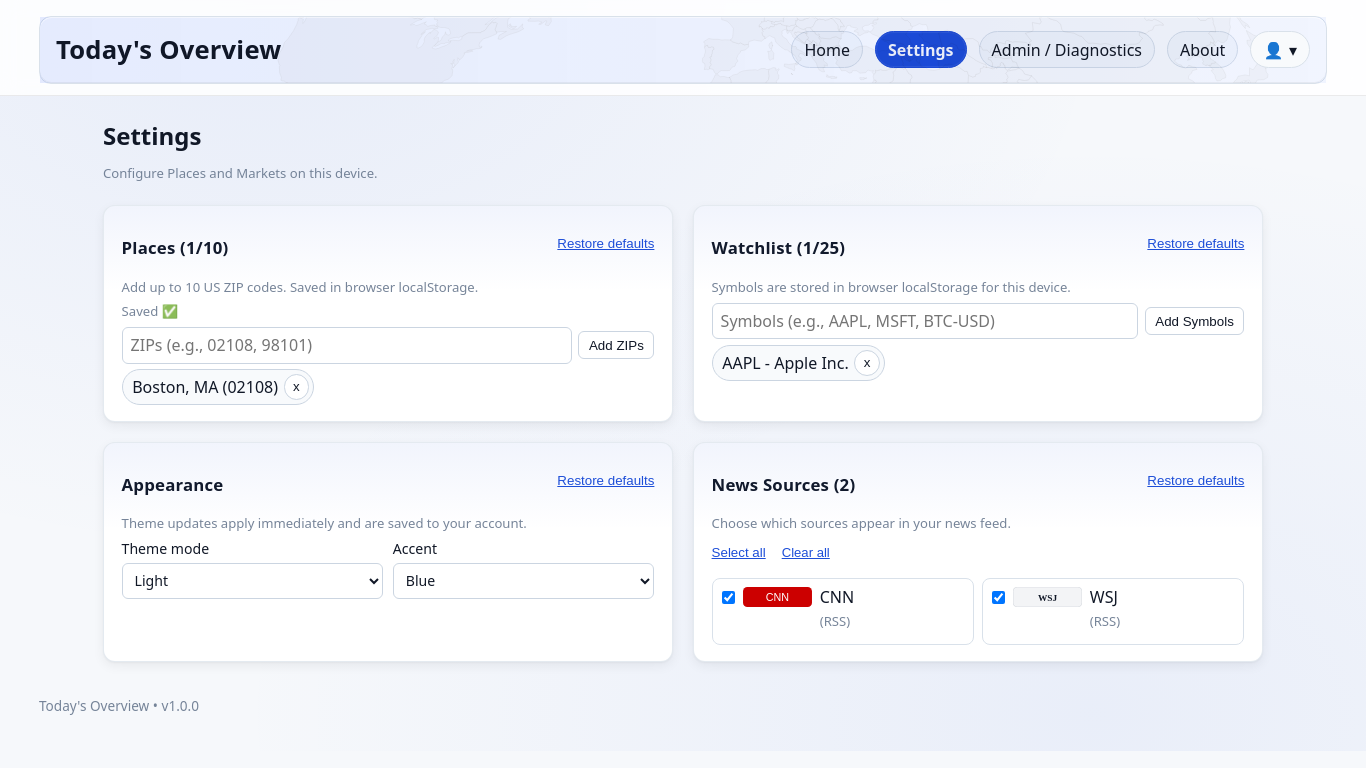
App › adds ZIP and symbol using Enter key in settings
This screenshot has width=1366, height=768.
Step 1. Type "60601, 98101" into the field with placeholder "ZIPs (e.g., 02108, 98101)" → (347, 345), box [122,327,572,364]
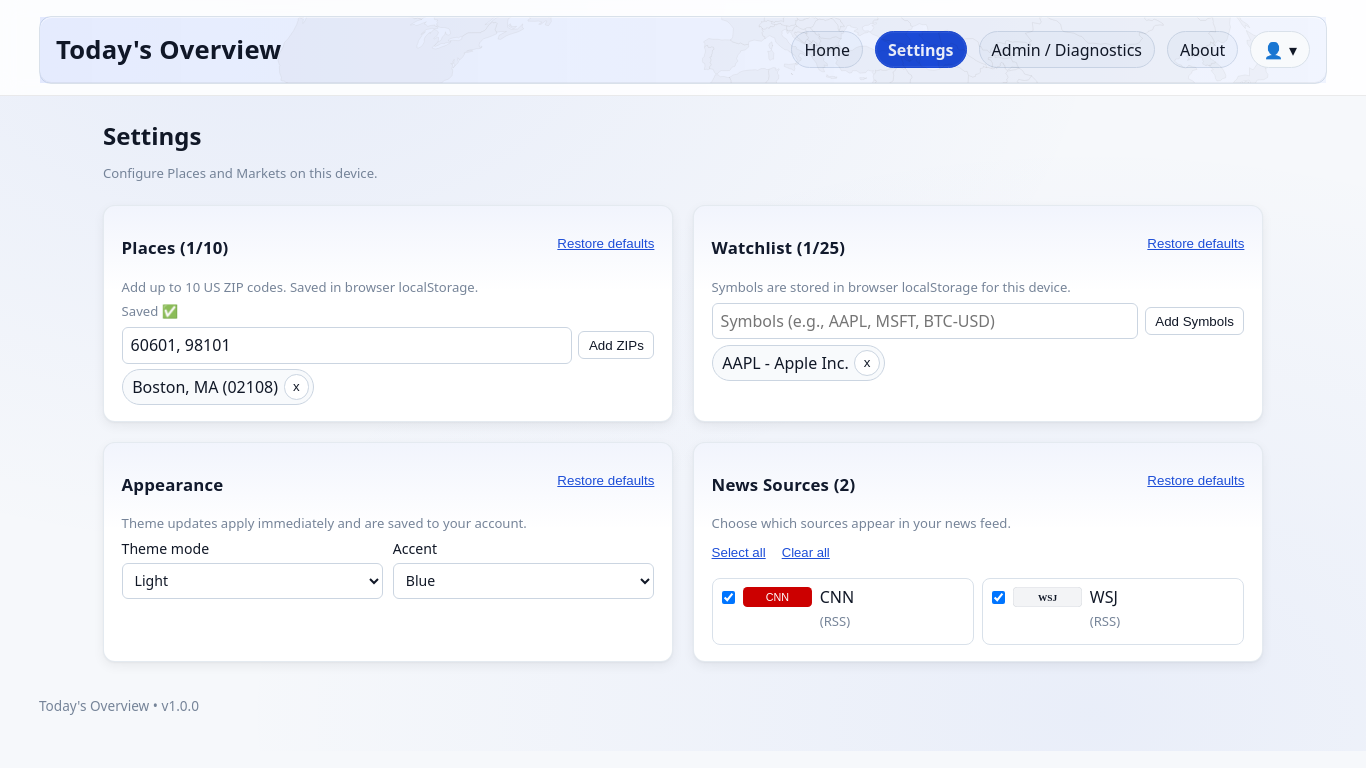
Step 2. Press Enter in the field with placeholder "ZIPs (e.g., 02108, 98101)", box [122,327,572,364]
Step 3. Submit the form with placeholder "ZIPs (e.g., 02108, 98101)", box [122,327,654,364]
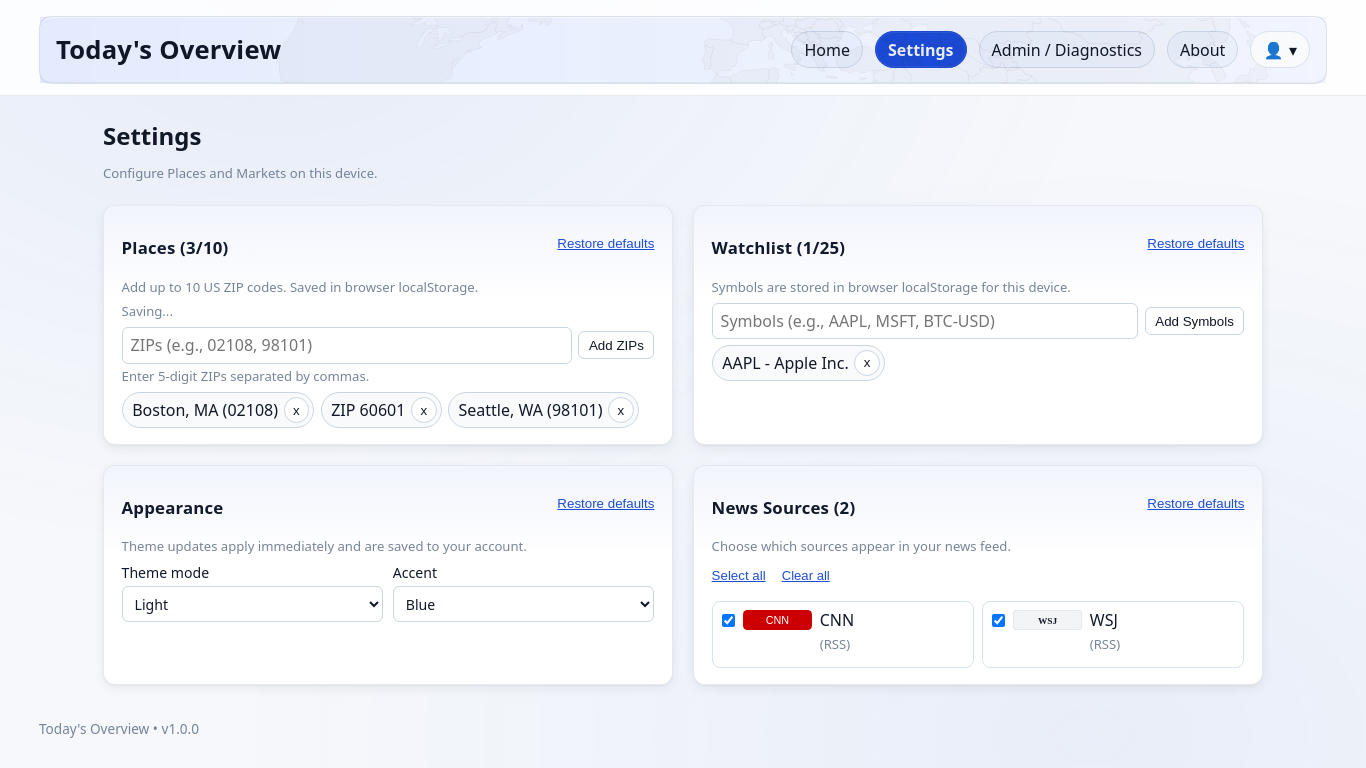
Step 4. Type "tsla, msft" into the field with placeholder "Symbols (e.g., AAPL, MSFT, BTC-USD)" → (925, 321), box [712,303,1138,339]
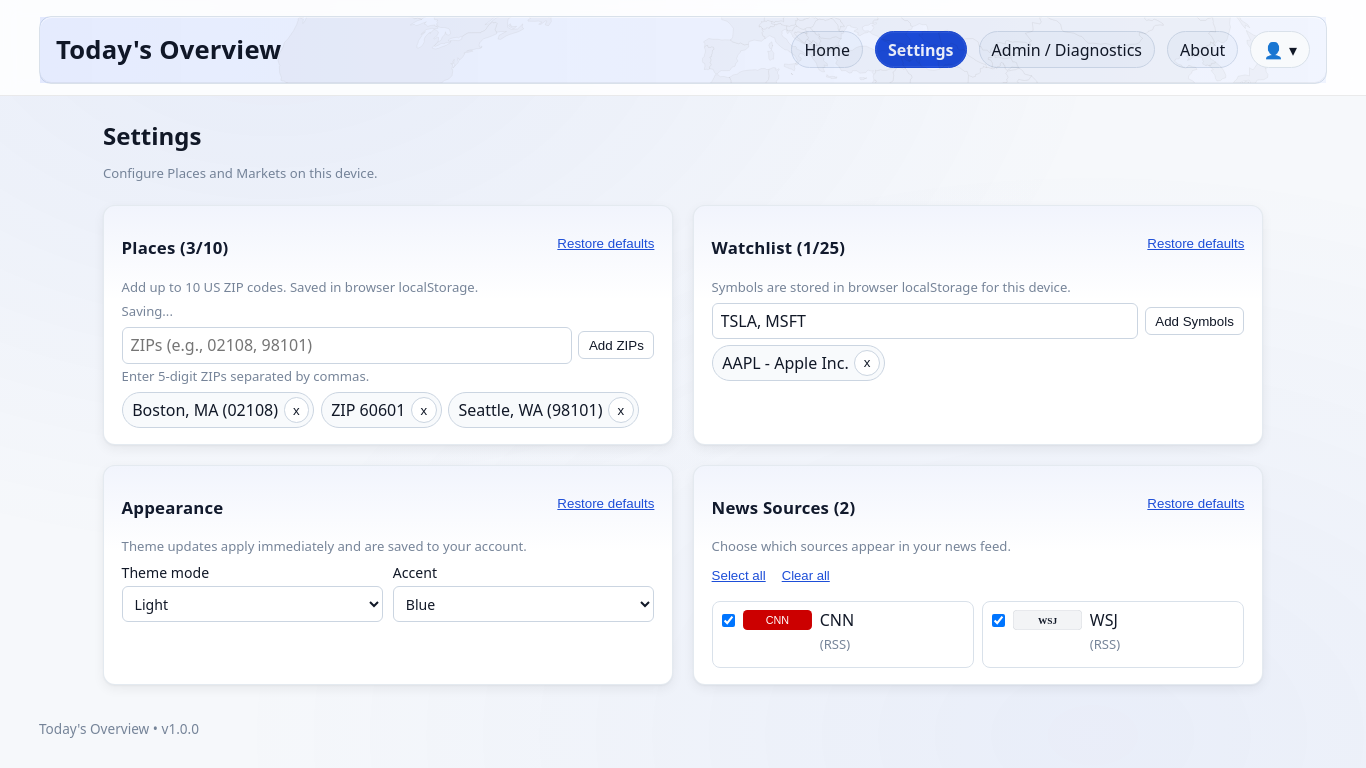
Step 5. Press Enter in the field with placeholder "Symbols (e.g., AAPL, MSFT, BTC-USD)", box [712,303,1138,339]
Step 6. Submit the form with placeholder "Symbols (e.g., AAPL, MSFT, BTC-USD)", box [712,303,1244,339]
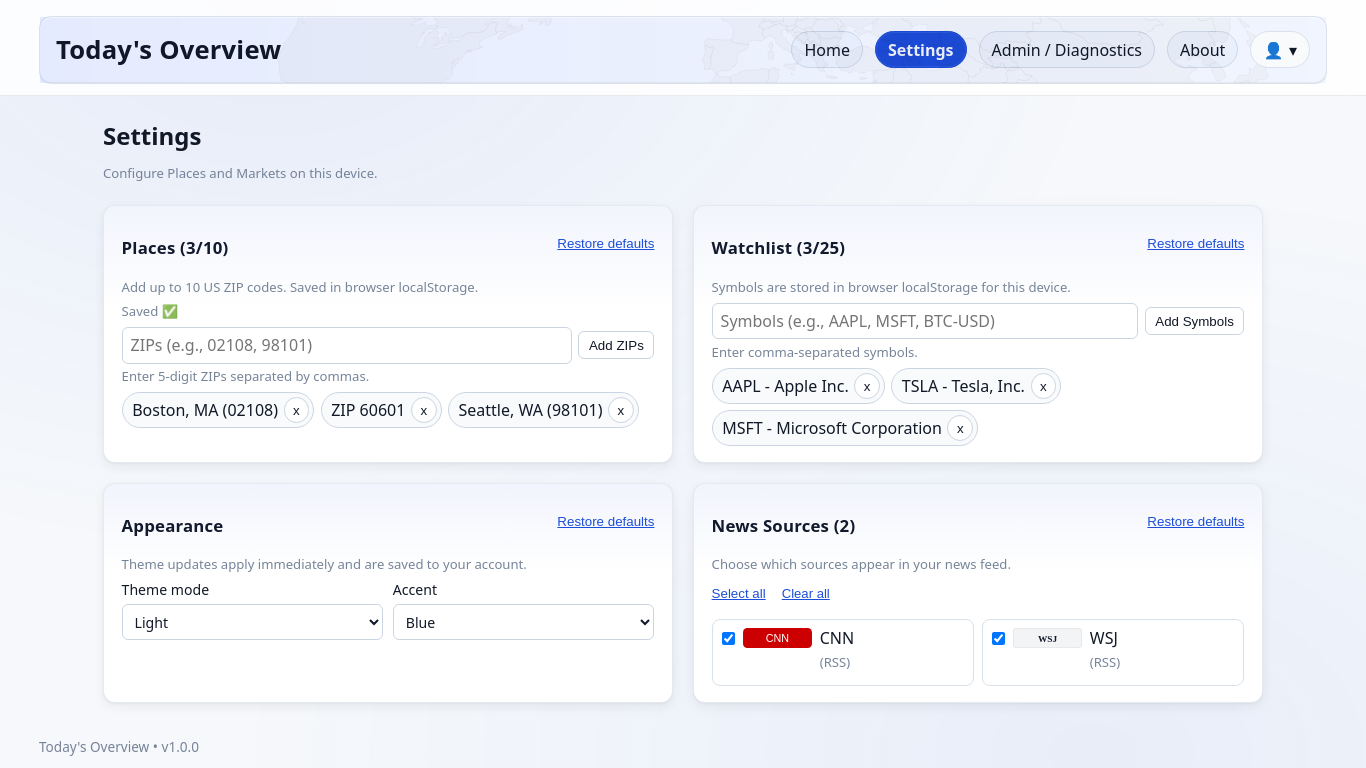
Expected: the text "ZIP 60601" is shown, [331,399,405,421]
Expected: the text "Seattle, WA (98101)" is shown, [458,399,602,421]
Expected: the text "TSLA - Tesla, Inc." is shown, [902,375,1025,397]
